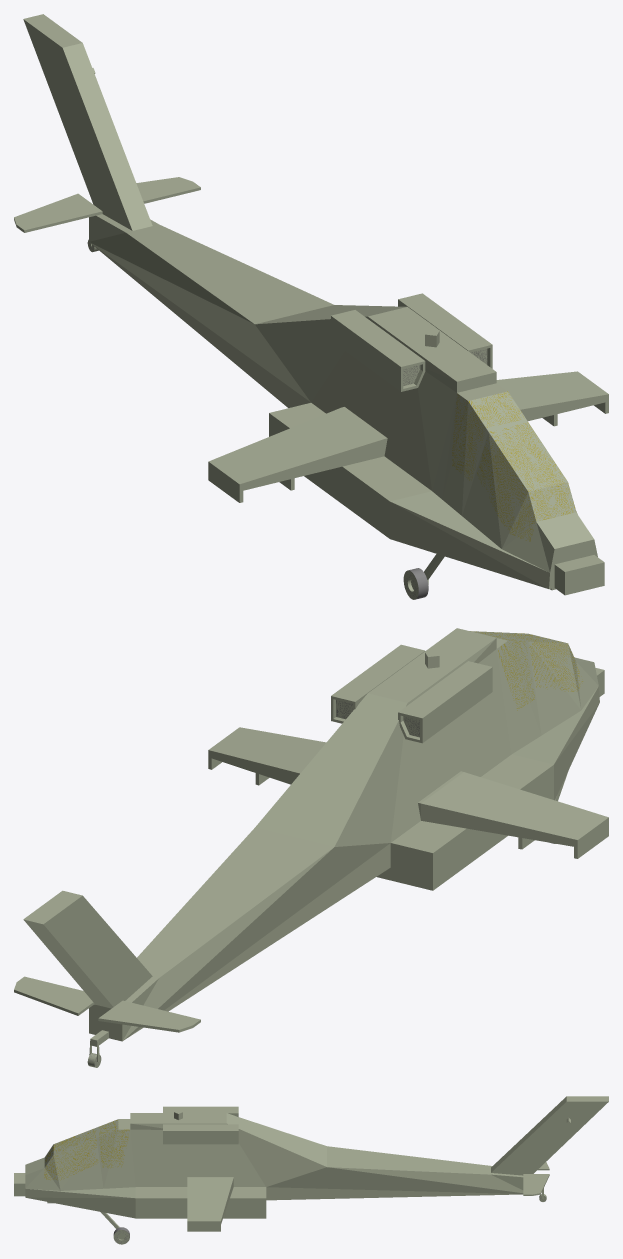
File: apache.fbx
3 renders of one model, top to bottom at view 1: azimuth 30°, elevation 25°; view 2: azimuth 150°, elevation 25°; view 3: azimuth 270°, elevation 25°, orthographic. The views are drawn at different scales.
Visible parts, largest first — view 1: apache; view 2: apache; view 3: apache.
Boxes of the visible parts, x1=… form: apache: x1=14, y1=14, x2=608, y2=599; apache: x1=14, y1=628, x2=608, y2=1067; apache: x1=14, y1=1096, x2=608, y2=1244.
Bounding box in the file's own units: 1007 × 609 × 2604.
